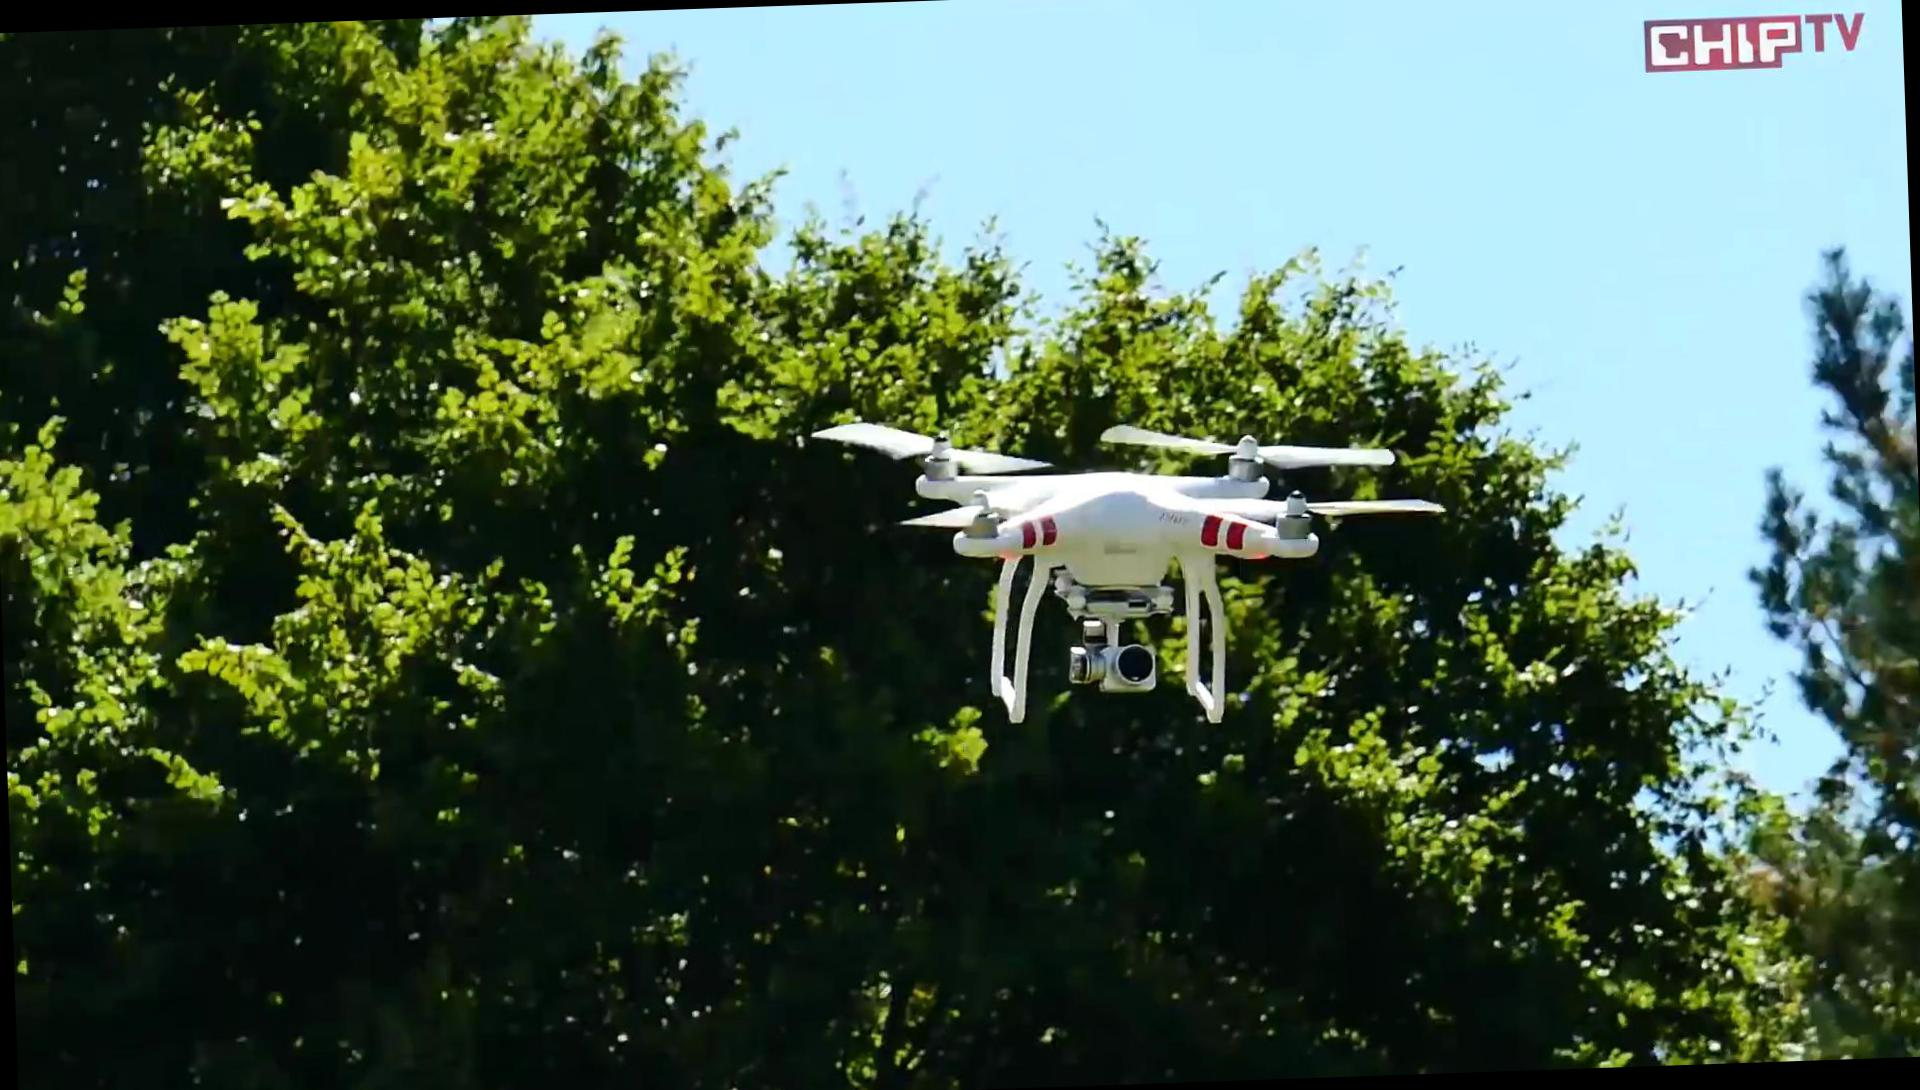drone: (807, 389, 1455, 739)
